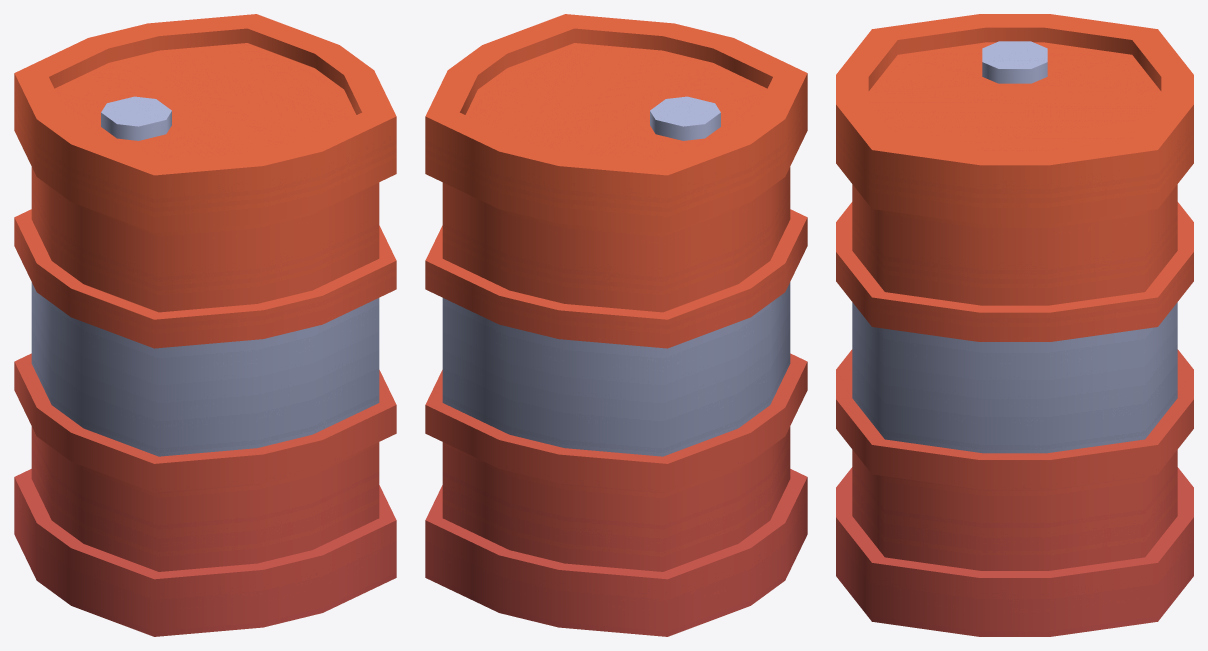
Rendered from barrel.glb.
3 renders of one model, left to right at view 1: azimuth 30°, elevation 25°; view 2: azimuth 150°, elevation 25°; view 3: azimuth 270°, elevation 25°, orthographic. The views are drawn at different scales.
Visible parts, largest first — view 1: barrel; view 2: barrel; view 3: barrel.
Part boxes in pixels (x1=…): barrel: x1=14, y1=14, x2=396, y2=636; barrel: x1=425, y1=14, x2=807, y2=636; barrel: x1=836, y1=14, x2=1193, y2=636.
Size of the model in its own units: 0.2365 by 0.344 by 0.2365.
Materials: 1 (1 with a texture image).
